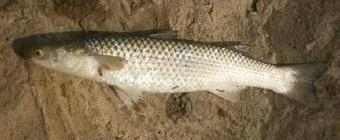fish: (12, 30, 329, 108)
